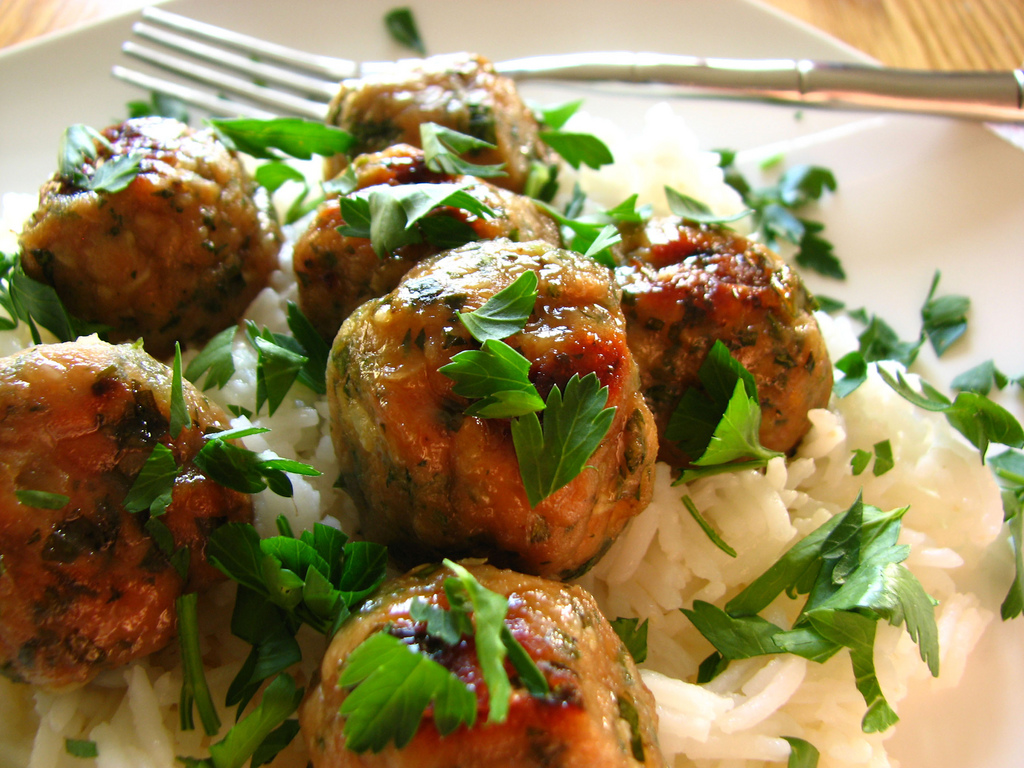meatballs: (368, 245, 634, 512), (309, 576, 593, 755), (37, 122, 263, 335), (29, 366, 196, 622), (606, 204, 781, 427)
plain rice: (663, 540, 855, 758)
